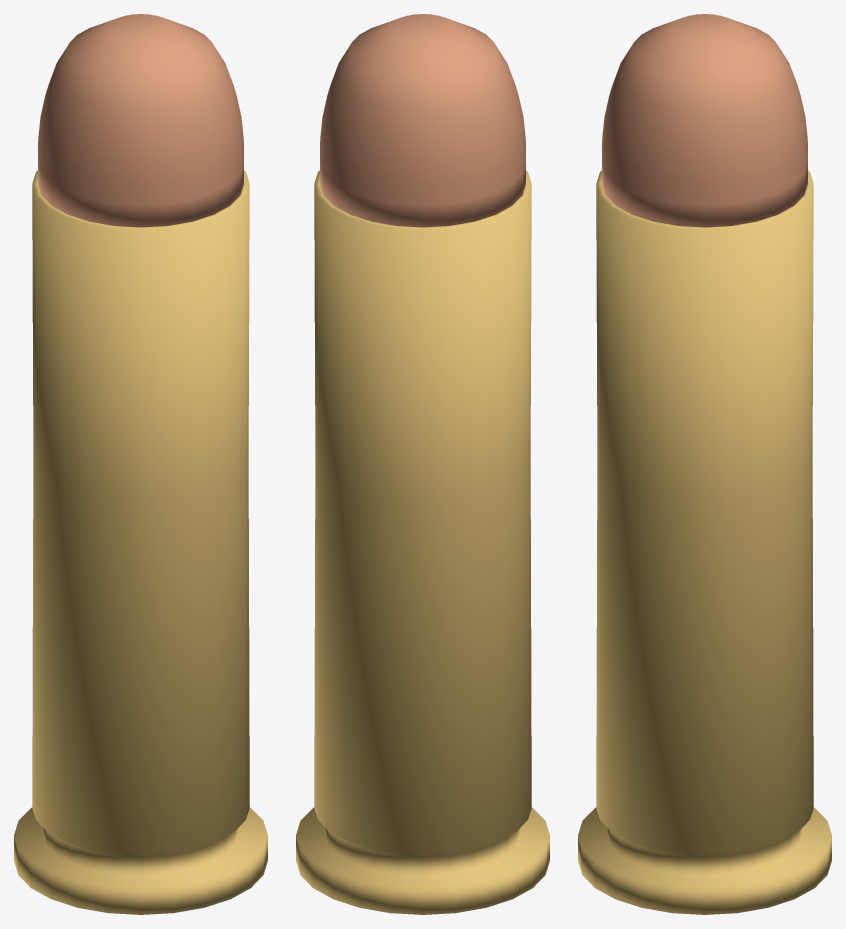
Rendered from 357_std.glb.
The picture shows the model from 3 angles, left to right: view 1: azimuth 30°, elevation 25°; view 2: azimuth 150°, elevation 25°; view 3: azimuth 270°, elevation 25°; orthographic projection.
Visible parts, largest first — view 1: vaina, bala; view 2: vaina, bala; view 3: vaina, bala.
Boxes of the visible parts, box(x1,y1,x2,y2) form: vaina: box(14, 170, 267, 914); bala: box(38, 14, 243, 227); vaina: box(296, 170, 549, 914); bala: box(320, 14, 525, 227); vaina: box(578, 170, 831, 914); bala: box(602, 14, 807, 227).
Bounding box in the file's own units: 0.0112 × 0.0406 × 0.0112.
